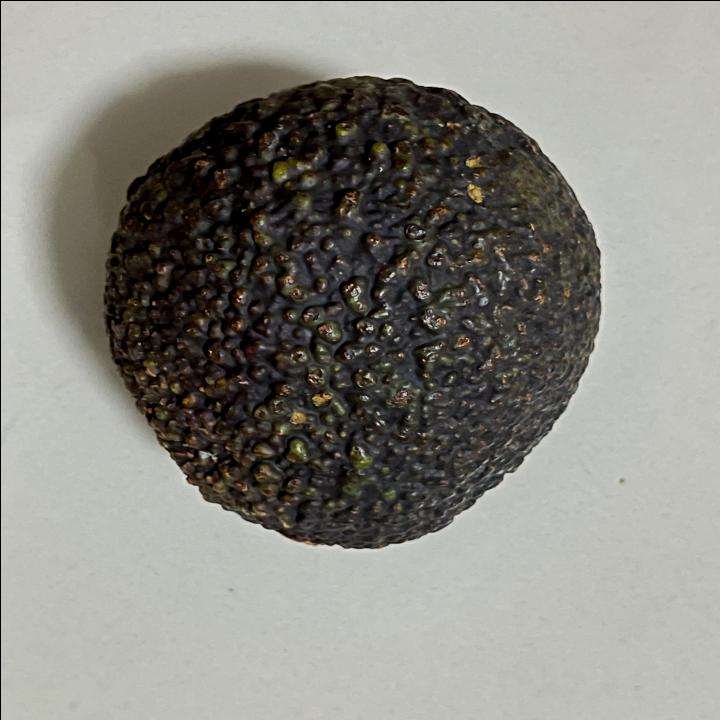Level2: (92, 70, 608, 558)
